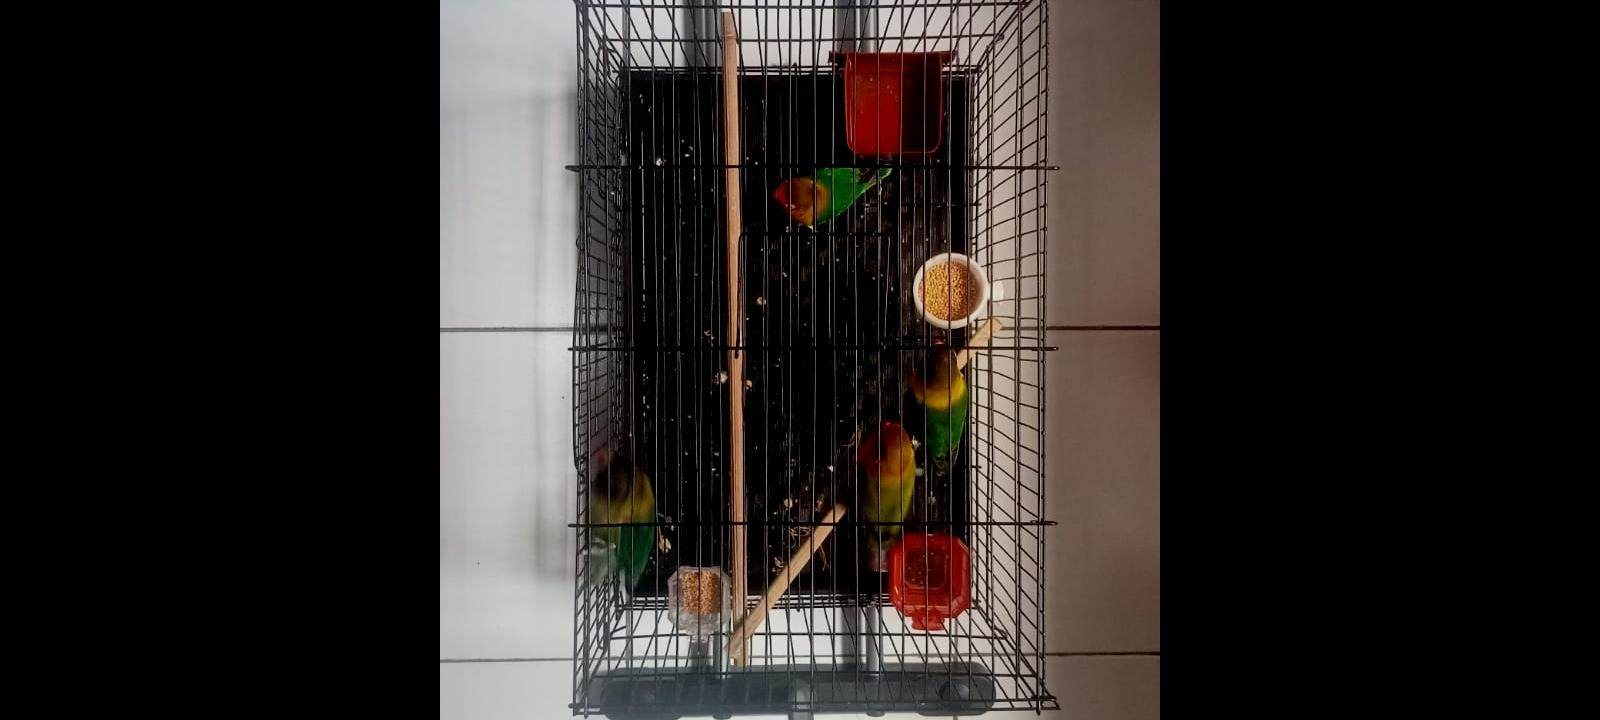LoveBird: (587, 454, 656, 588), (906, 335, 968, 474), (770, 154, 890, 224), (856, 418, 916, 547)
